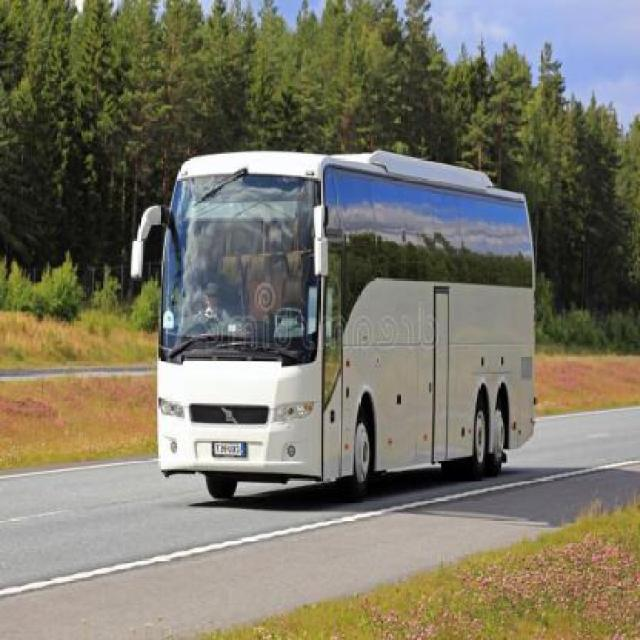bus: (129, 154, 538, 492)
